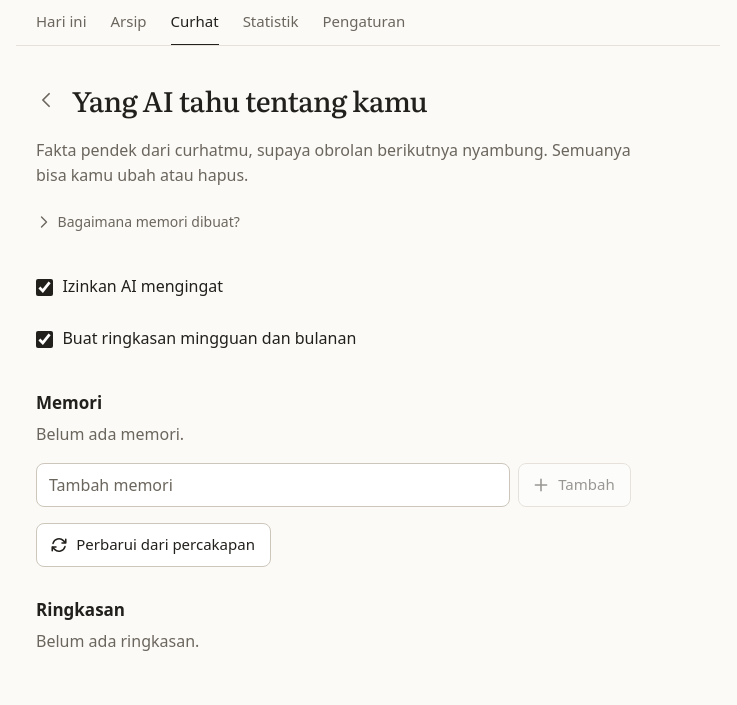
Test case: refresh shows a provider error
The width and height of the screenshot is (737, 705).
Click the button "Perbarui dari percakapan" at {"x": 154, "y": 545}, box [36, 523, 271, 567]
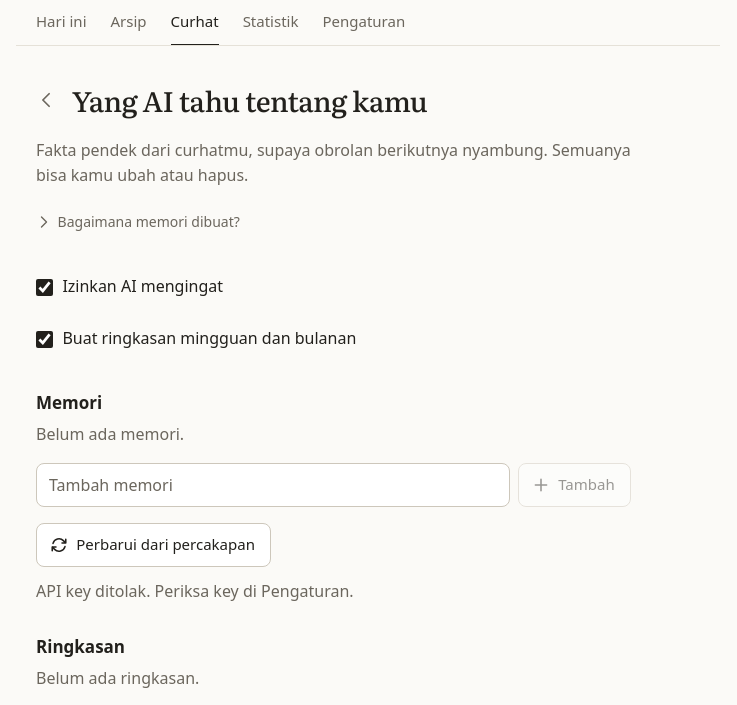
expect the message reads "API key ditolak. Periksa key di Pengaturan.": met, box [36, 580, 354, 602]
